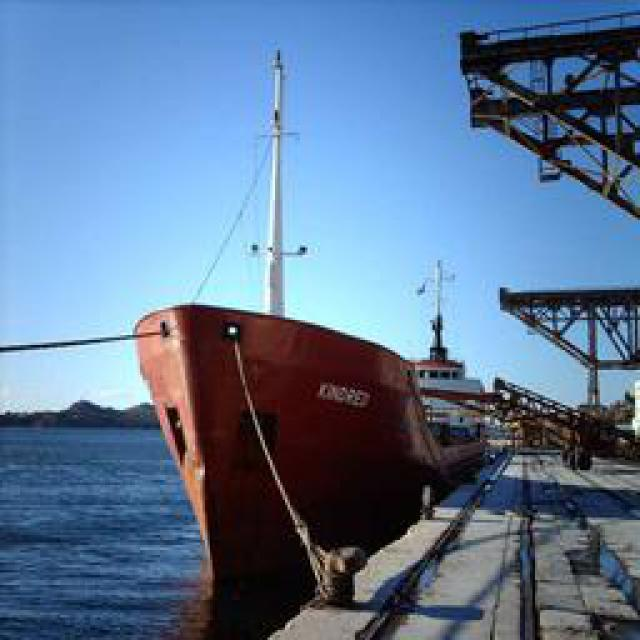Ship: (120, 299, 500, 629)
